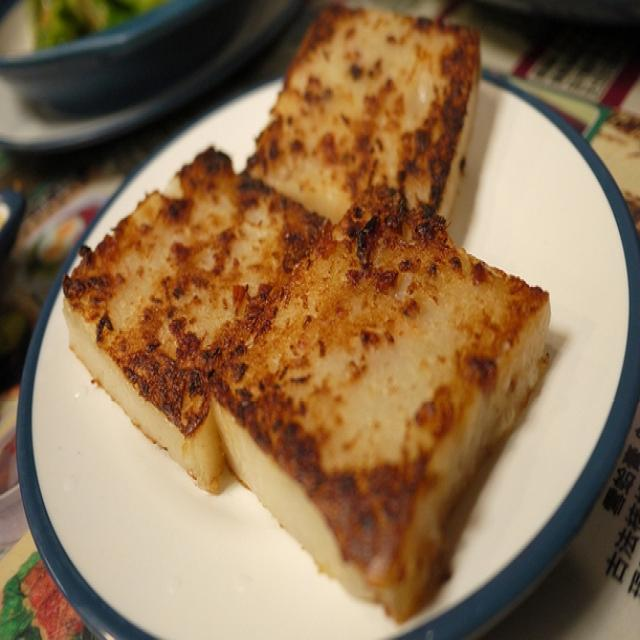蛋糕甜品: (47, 9, 586, 607)
